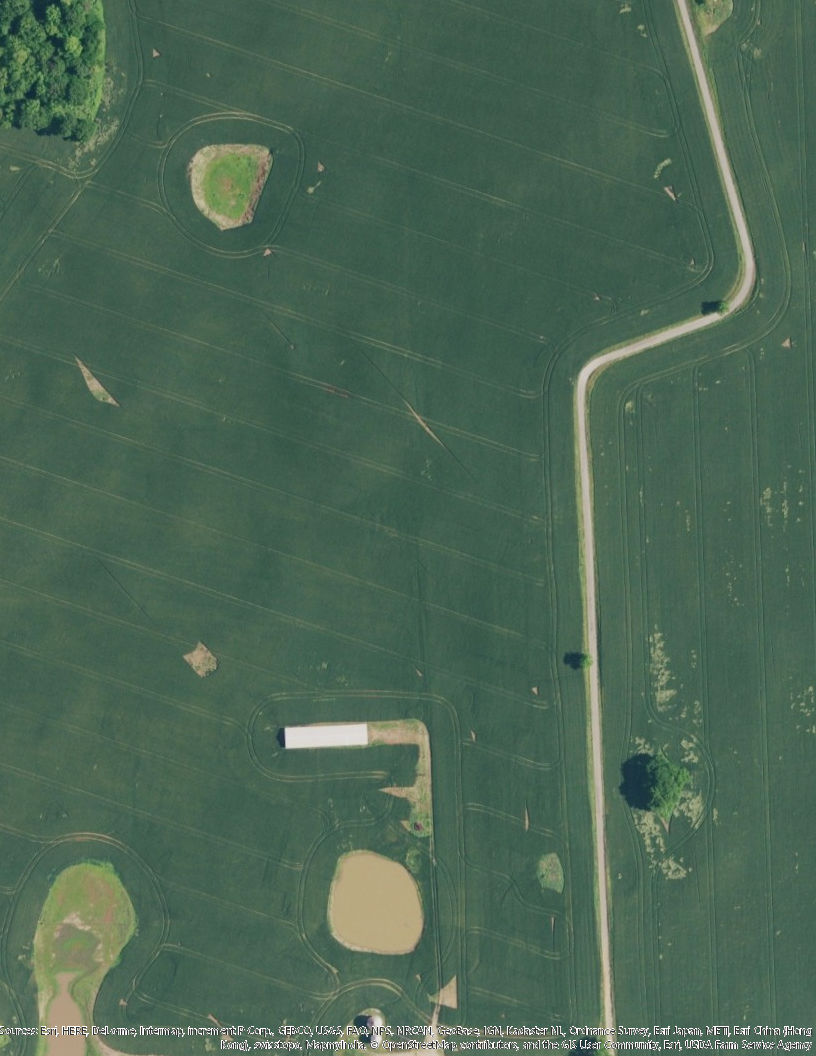cafo: (279, 719, 373, 751)
